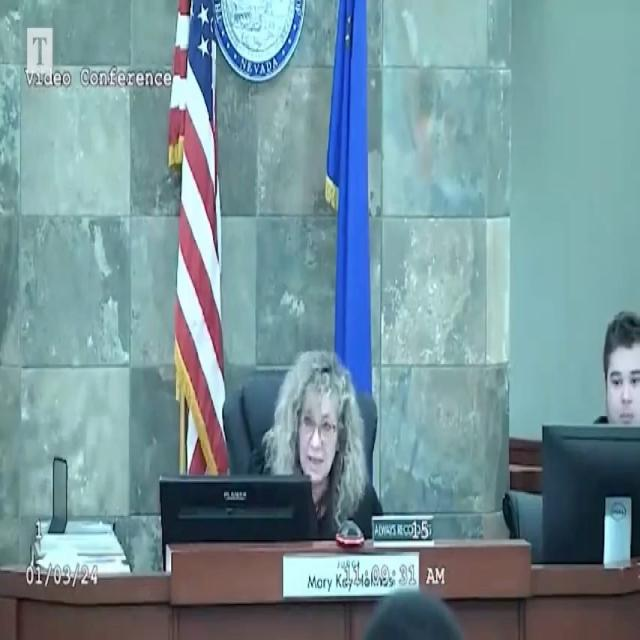non-fight: (222, 343, 388, 541), (575, 298, 640, 425)
